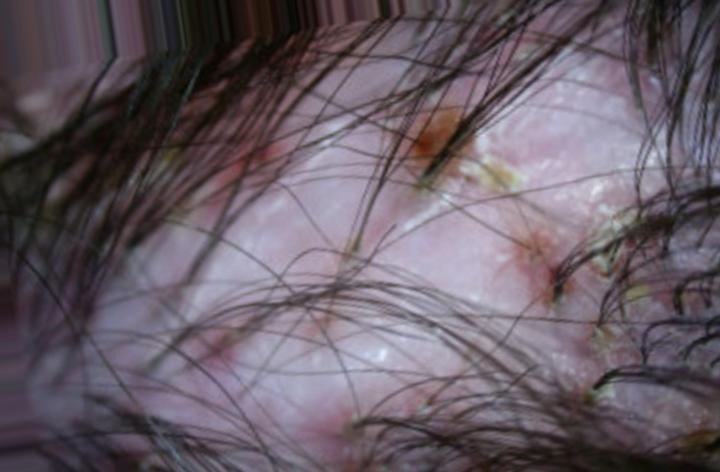Folliculitis: (344, 78, 671, 398)
